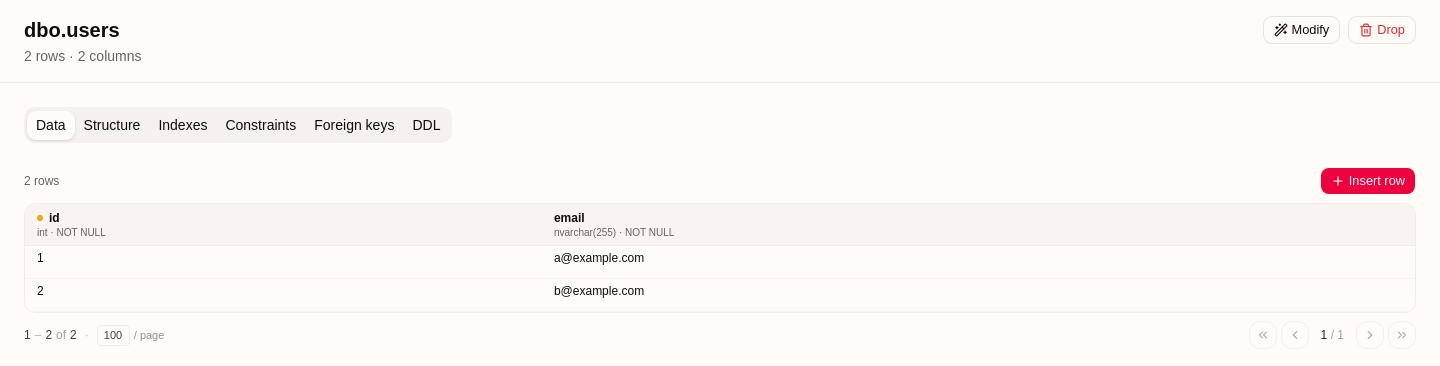
Test: sqlserver TableDetailClient (characterization) › Retry recovers after a later data load fails, not just the first
Expected: the text "a@example.com" is shown, [542,246,1347,279]
Step 1. Select "50" in the dropdown named "rows per page" → (113,335), box [97,325,130,346]
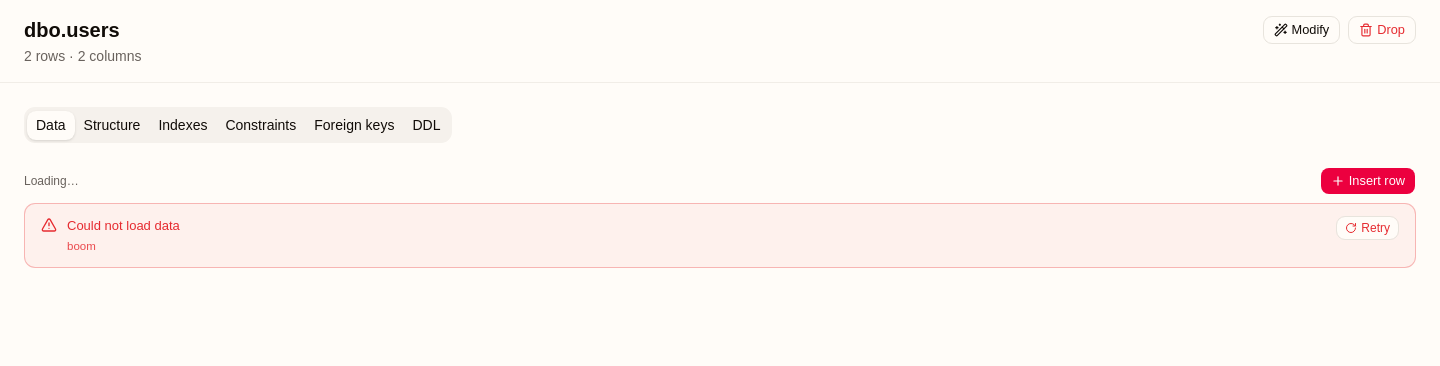
Expected: the message "Could not load data boom Retry" is shown, [24,203,1416,268]
Step 2. Click the button "Retry" → (1368,228), box [1336,216,1399,240]
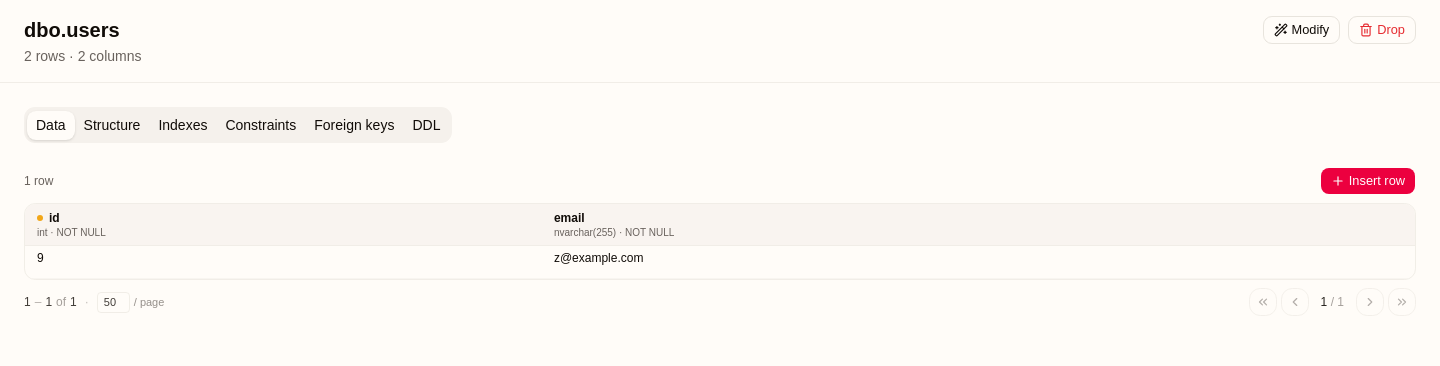
Expected: the text "z@example.com" is shown, [542,246,1347,279]
